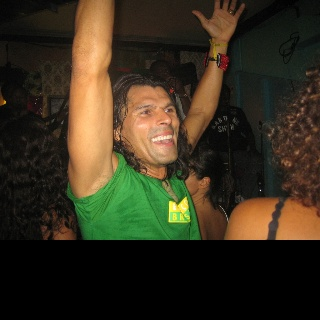without_mask: (118, 83, 181, 165)
